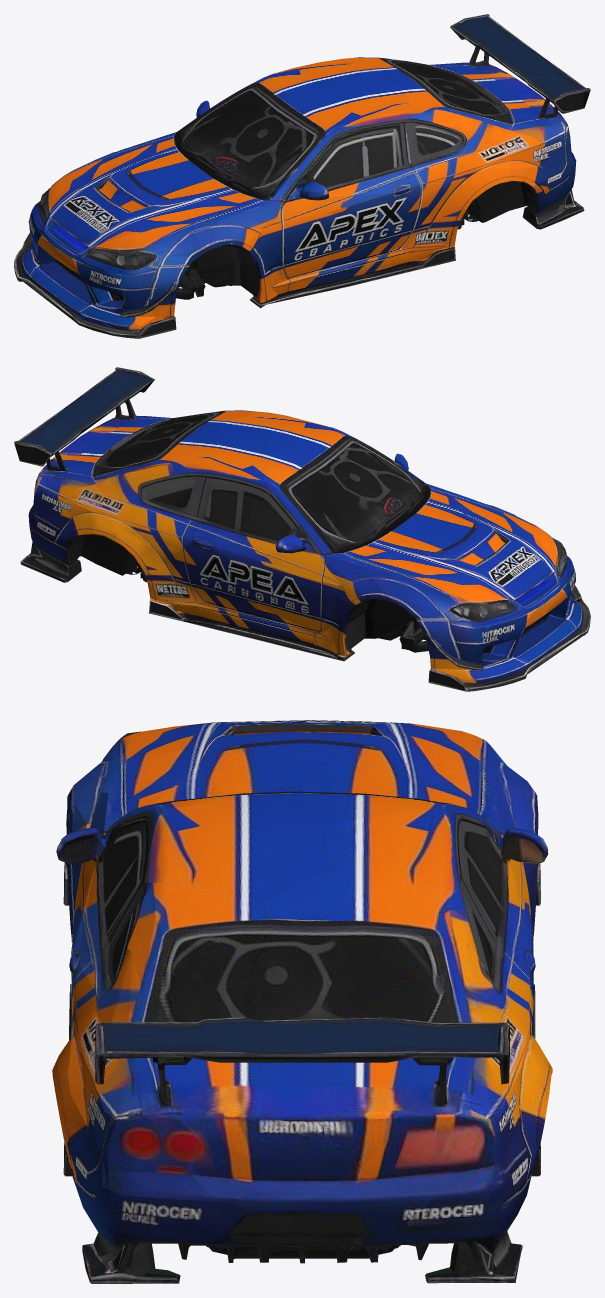
File: skin4.glb
3 renders of one model, top to bottom at view 1: azimuth 30°, elevation 25°; view 2: azimuth 150°, elevation 25°; view 3: azimuth 270°, elevation 25°, orthographic. The views are drawn at different scales.
Bounding box in the file's own units: 1.9 × 0.5328 × 0.8339.
1 material, 1 textured.
